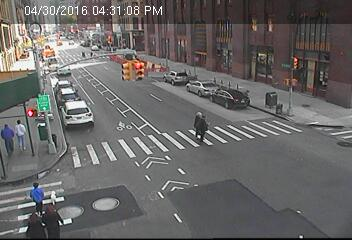neg: (53, 91, 89, 139), (106, 143, 137, 185), (278, 123, 308, 163), (223, 151, 253, 191), (86, 36, 113, 72), (10, 17, 36, 52), (200, 61, 225, 95), (189, 13, 214, 46), (114, 93, 134, 120), (149, 62, 169, 89), (172, 184, 192, 211), (262, 80, 282, 106), (303, 58, 322, 83), (268, 211, 278, 225)
pos: (12, 117, 37, 151), (190, 110, 215, 143), (41, 203, 65, 234), (26, 178, 47, 205), (24, 208, 43, 234)
